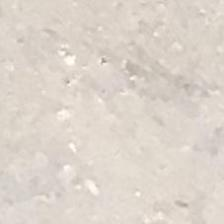Non_Crack: (13, 16, 200, 174)
